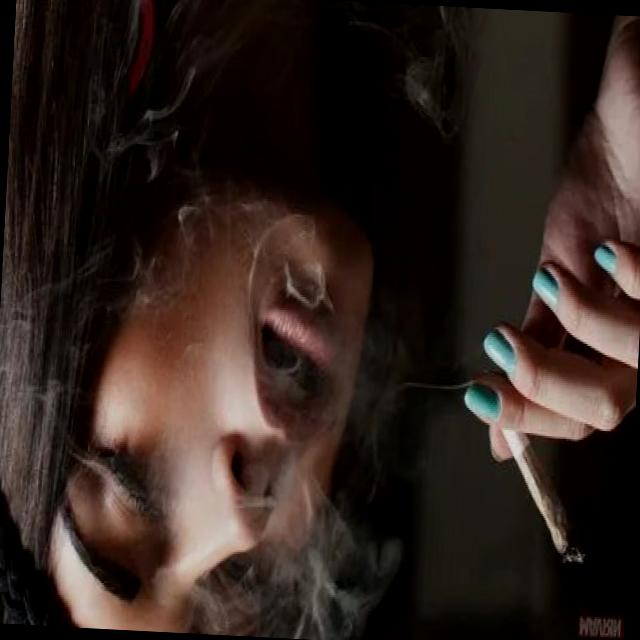smoke: (490, 412, 598, 564)
